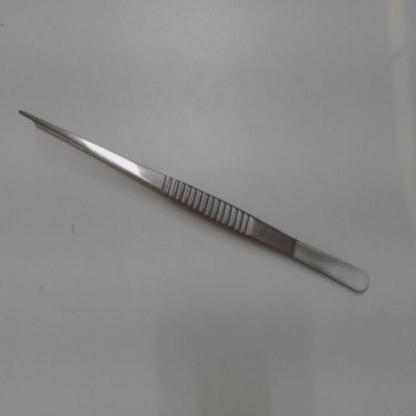DeBakey Dissector: (7, 78, 391, 319)
